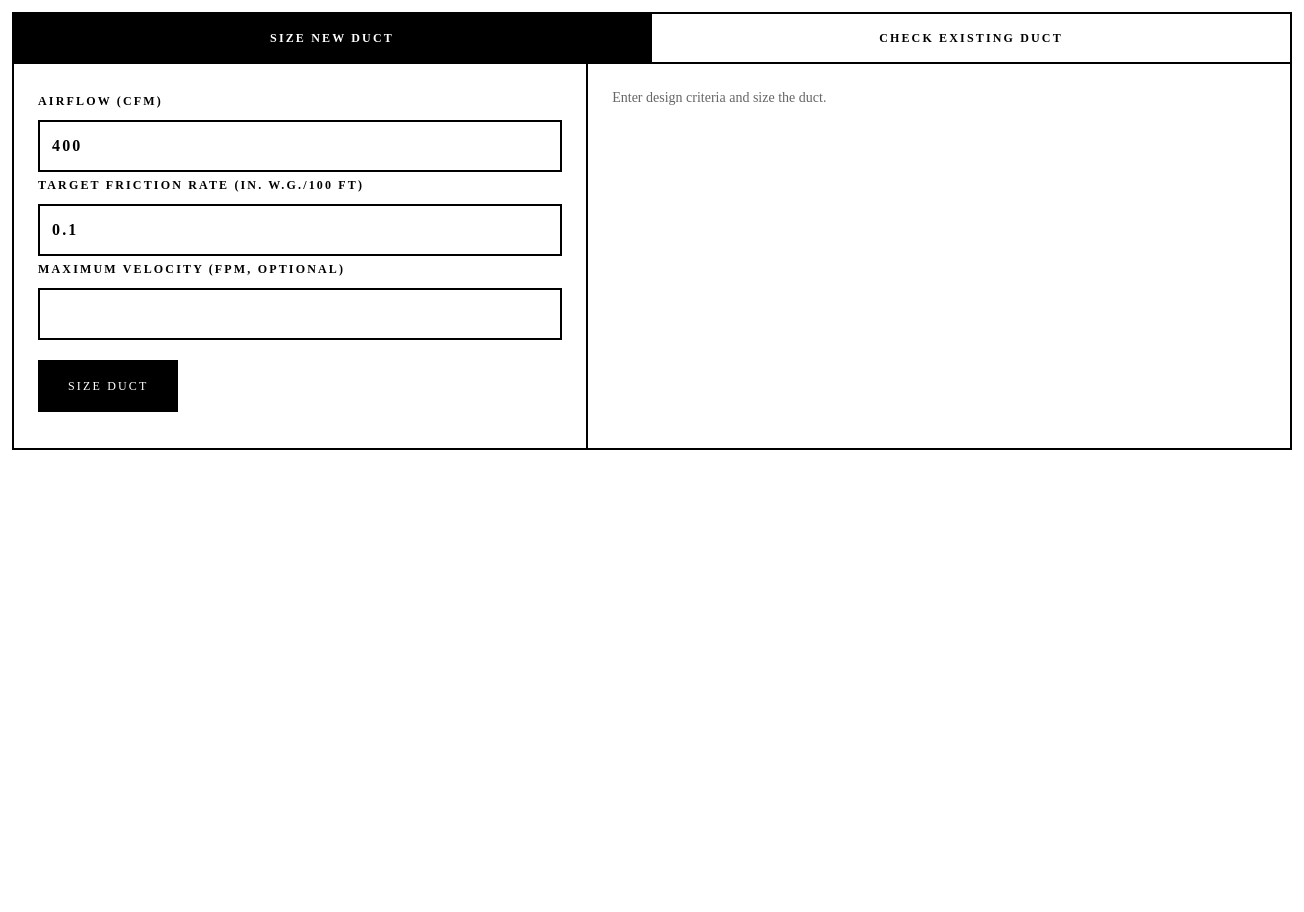
Scenario: Ductulator › sizes a round duct and presents practical rectangular options
Expected: the number field labelled "Airflow (CFM)" is shown, x1=38 y1=120 x2=562 y2=172
Expected: the number field labelled "Target friction rate (in. w.g./100 ft)" is shown, x1=38 y1=204 x2=562 y2=256
Click the button "Size duct": coordinates (108, 386) x1=38 y1=360 x2=178 y2=412
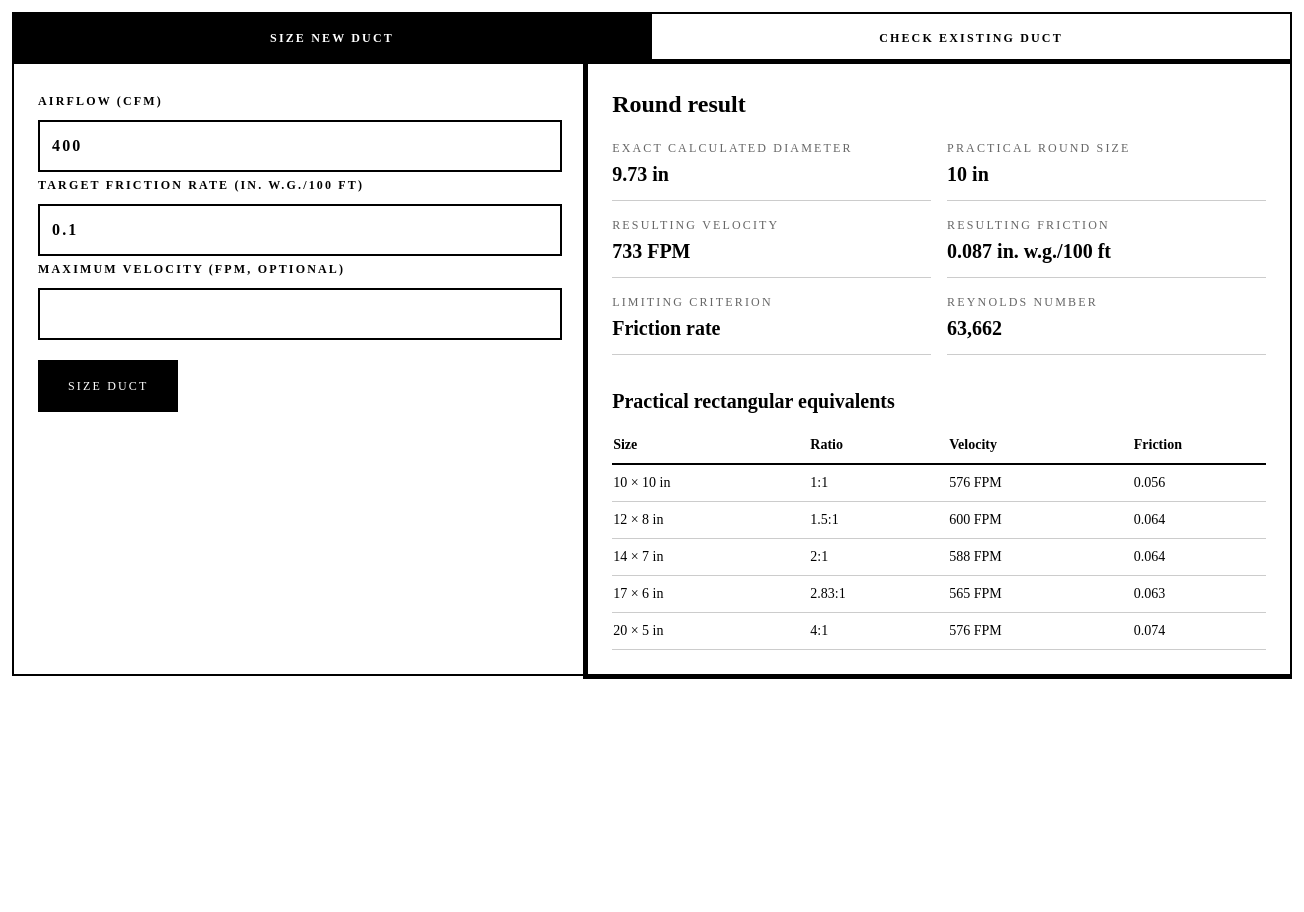
Expected: the text "10 in" is shown, x1=947 y1=163 x2=989 y2=185
Expected: the table named "Rectangular equivalents" is shown, x1=612 y1=427 x2=1266 y2=650
